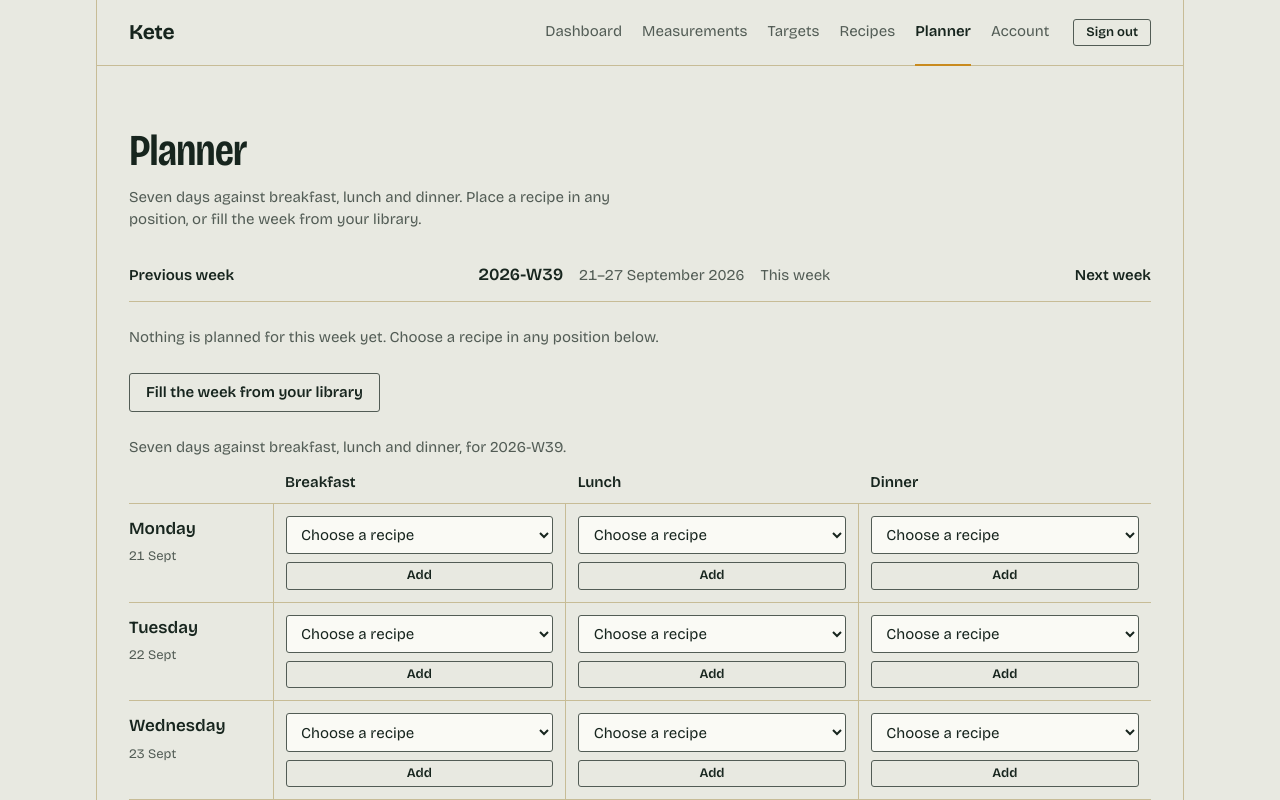
it: placing a recipe › shows the server's own sentence when the position was filled first
Select "Kumara and lentil soup" in the dropdown named "Recipe for Monday breakfast": (419, 535) [286,516,553,554]
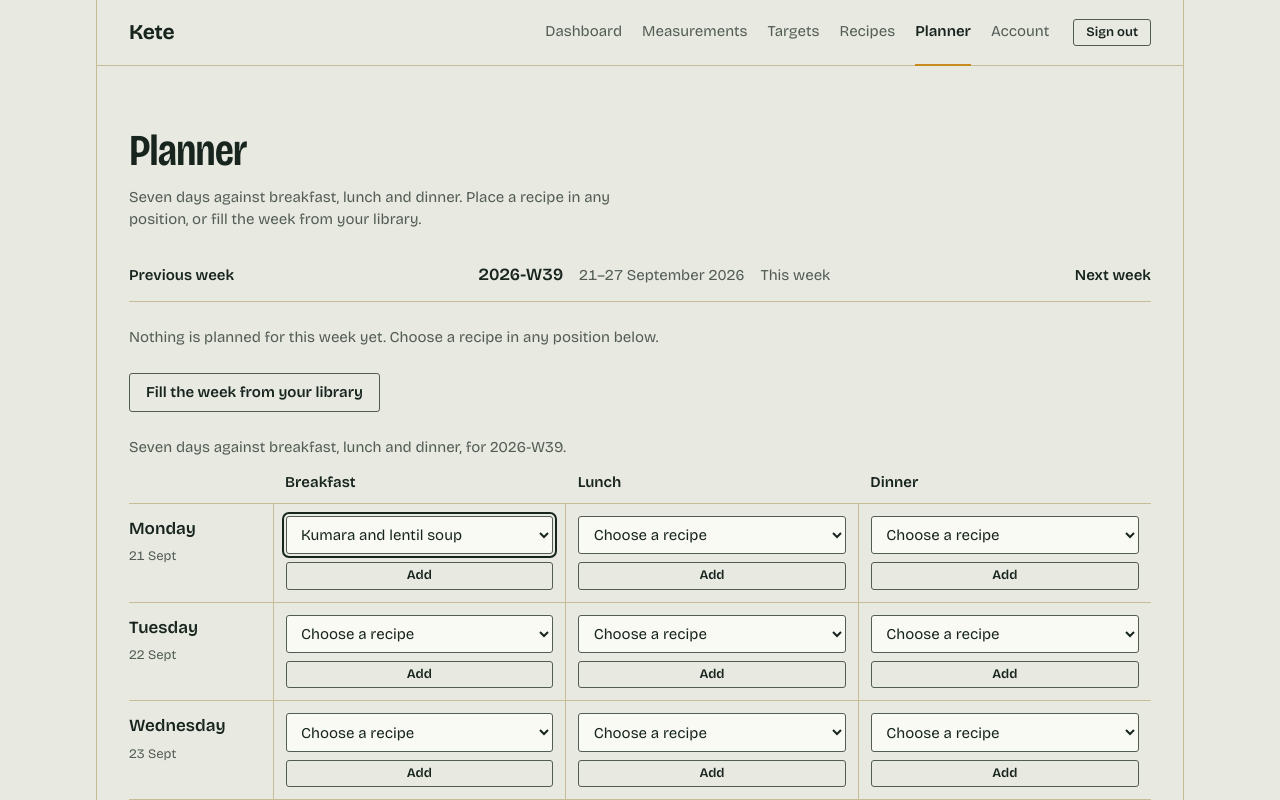
Click the button with aria-label "Add a recipe to Monday breakfast": (419, 576) [286,562,553,590]
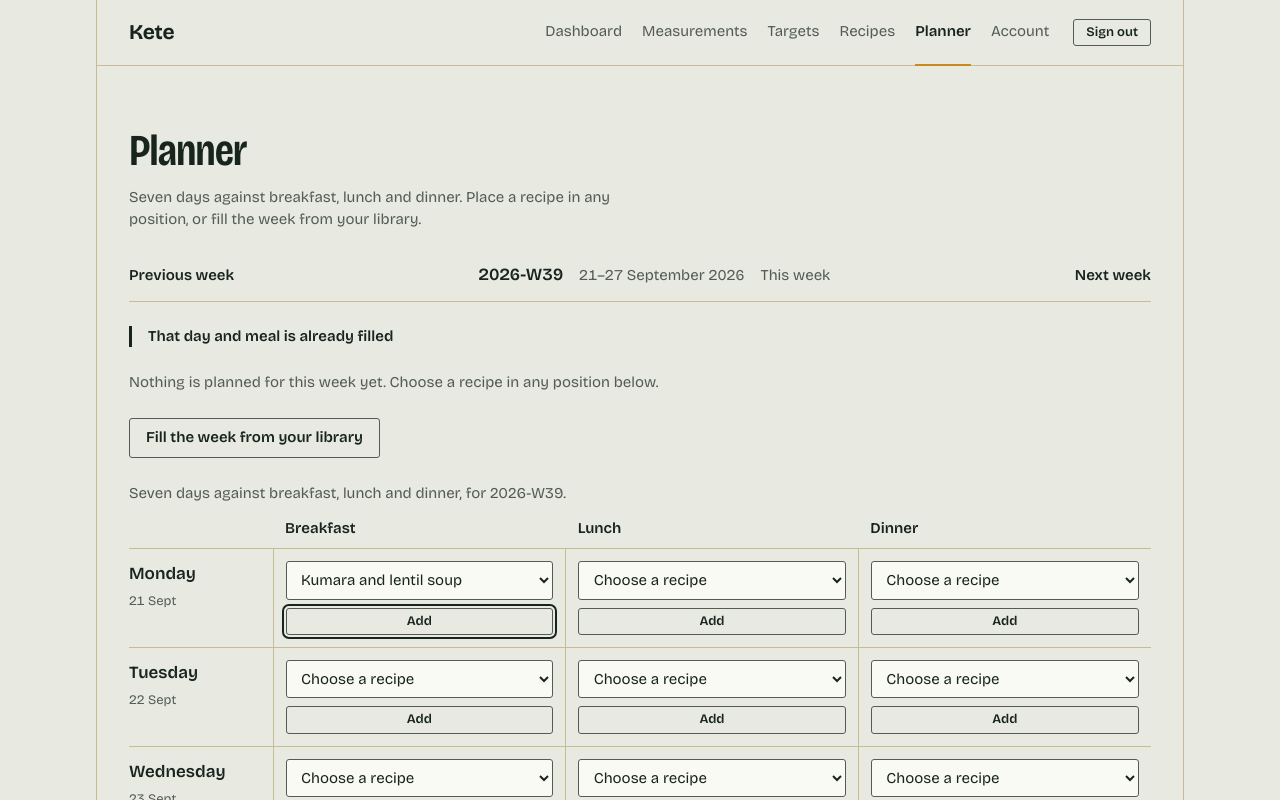
Expected: the message reads "That day and meal is already filled", [148,326,393,344]
